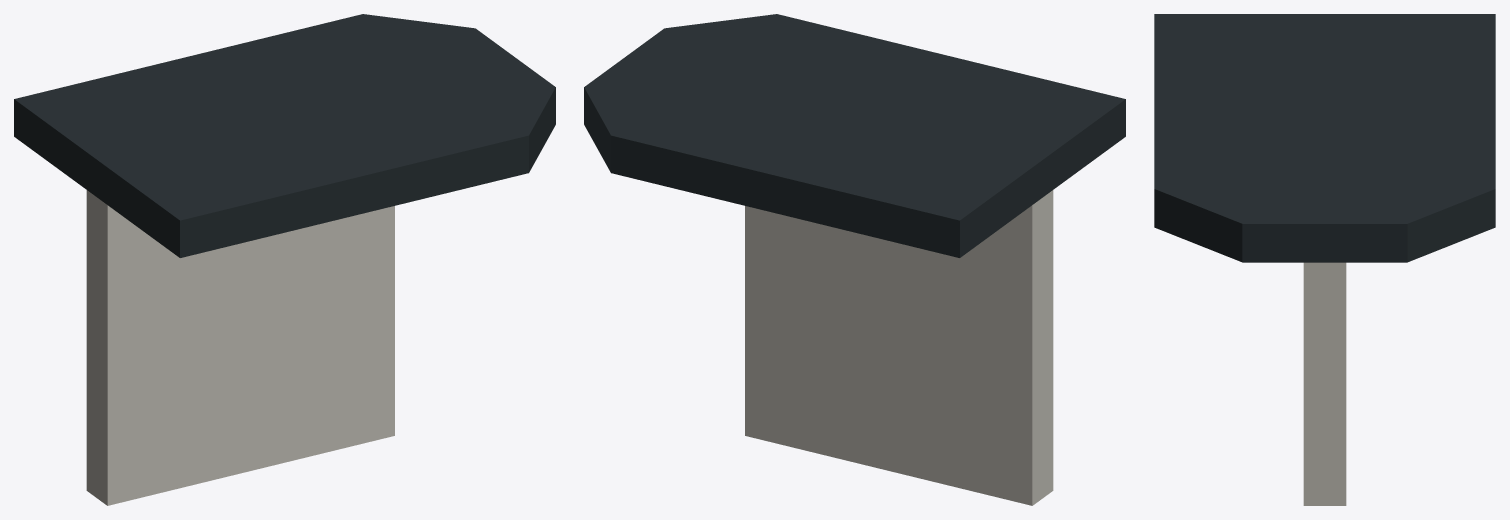
Rendered from bar2.fbx.
3 views of the same model, side by side, from view 1: azimuth 30°, elevation 25°; view 2: azimuth 150°, elevation 25°; view 3: azimuth 270°, elevation 25° (orthographic). The views are drawn at different scales.
Parts seen in each view (by area): view 1: Cube; view 2: Cube; view 3: Cube.
Part boxes in pixels (<box>): Cube: <box>14,14,555,505</box>; Cube: <box>584,14,1125,505</box>; Cube: <box>1154,14,1495,505</box>.
Bounding box in the file's own units: 5.82 × 4.5 × 4.
